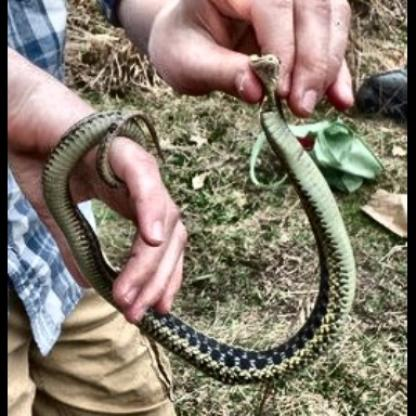Snake: (238, 50, 376, 373), (61, 226, 279, 393), (41, 94, 174, 238)
